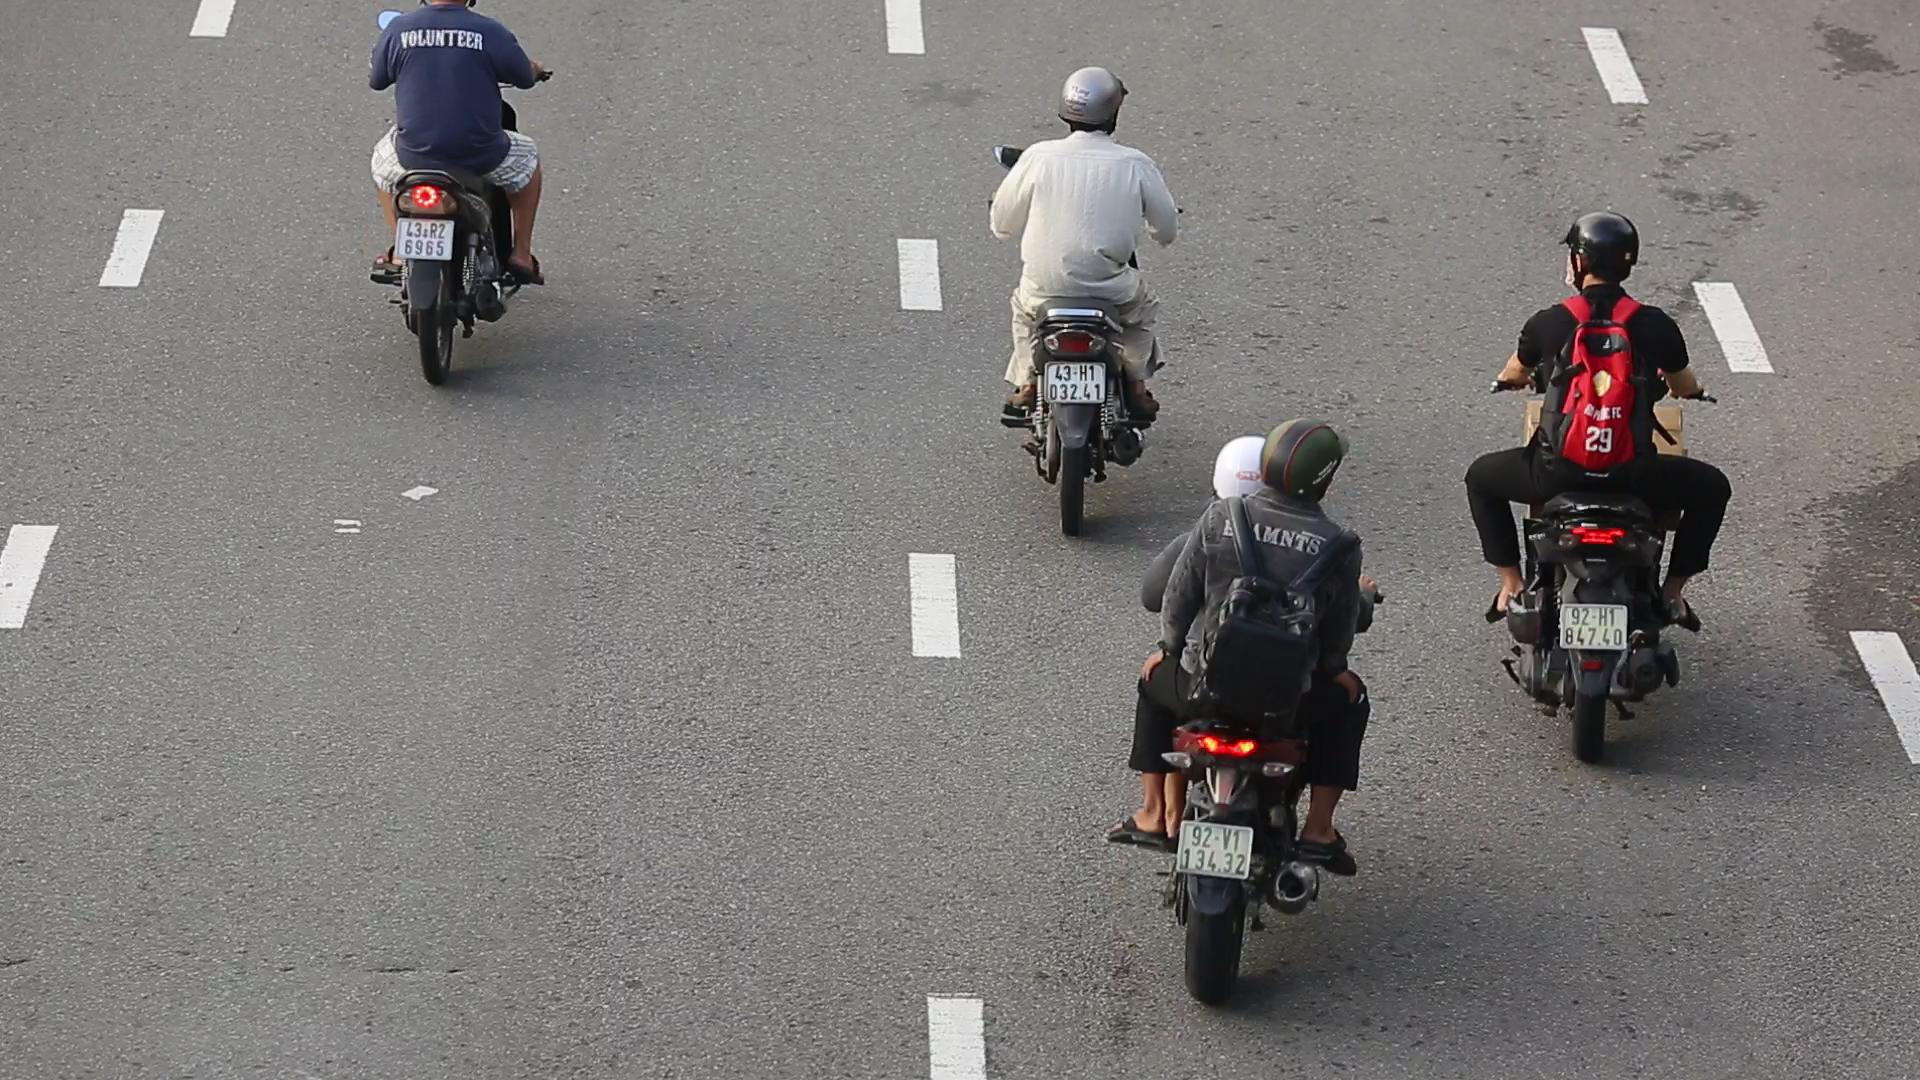motobike: (1473, 202, 1738, 754), (1124, 419, 1381, 982), (985, 49, 1172, 522)
